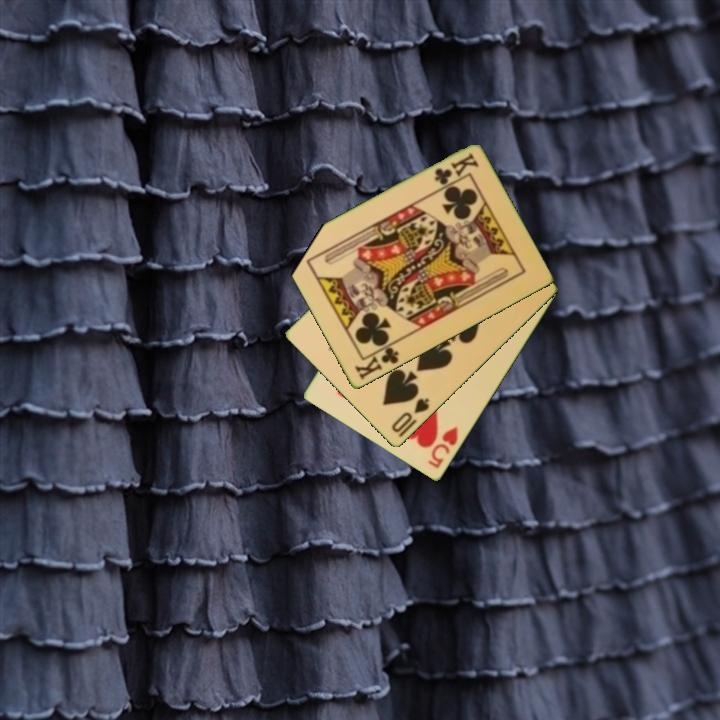10s: (388, 395, 432, 436)
5h: (424, 423, 461, 472)
Kc: (351, 339, 402, 383), (430, 150, 482, 188)
